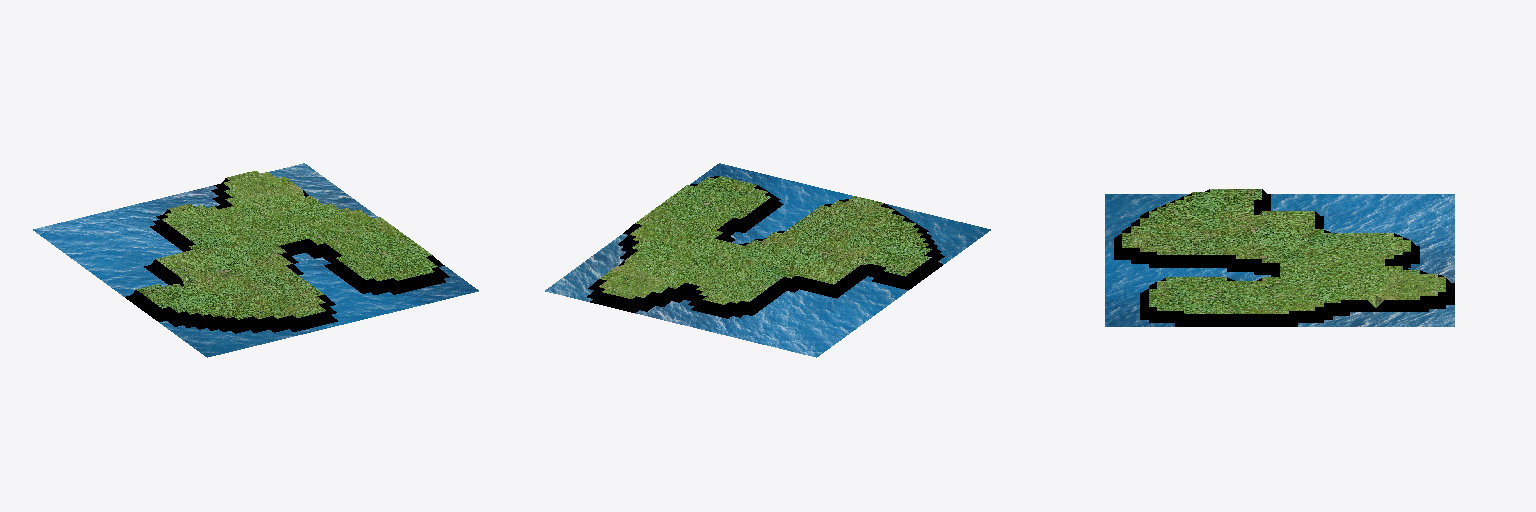
3 views of the same model, side by side, from view 1: azimuth 30°, elevation 25°; view 2: azimuth 150°, elevation 25°; view 3: azimuth 270°, elevation 25° (orthographic).
Parts seen in each view (by area): view 1: pPlane1; view 2: pPlane1; view 3: pPlane1.
Part boxes in pixels (x1,y1,x2,y2): pPlane1: (33, 163, 478, 357); pPlane1: (545, 163, 990, 357); pPlane1: (1105, 189, 1454, 326).
Bounding box in the file's own units: 51.93 × 1.62 × 57.7.
Materials: 3 (2 with a texture image).